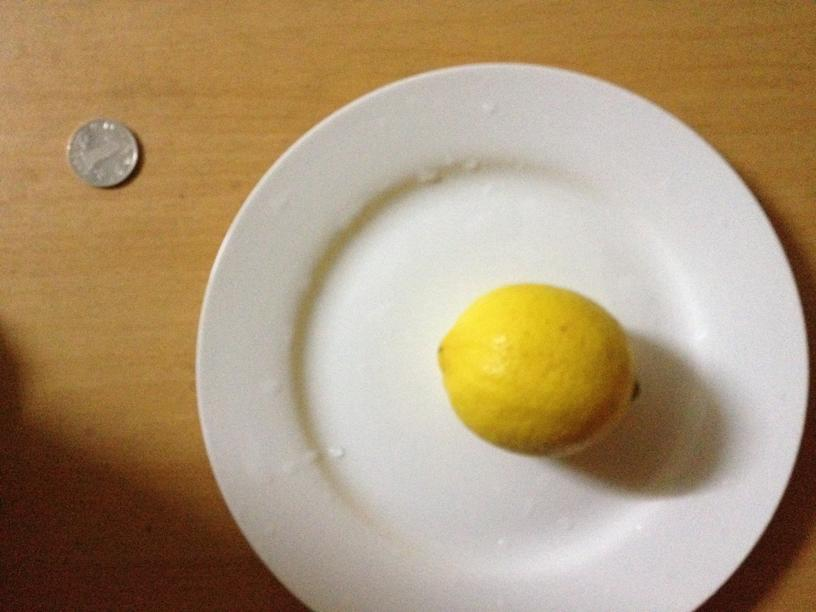coin: (65, 117, 139, 189)
lemon: (434, 282, 638, 457)
